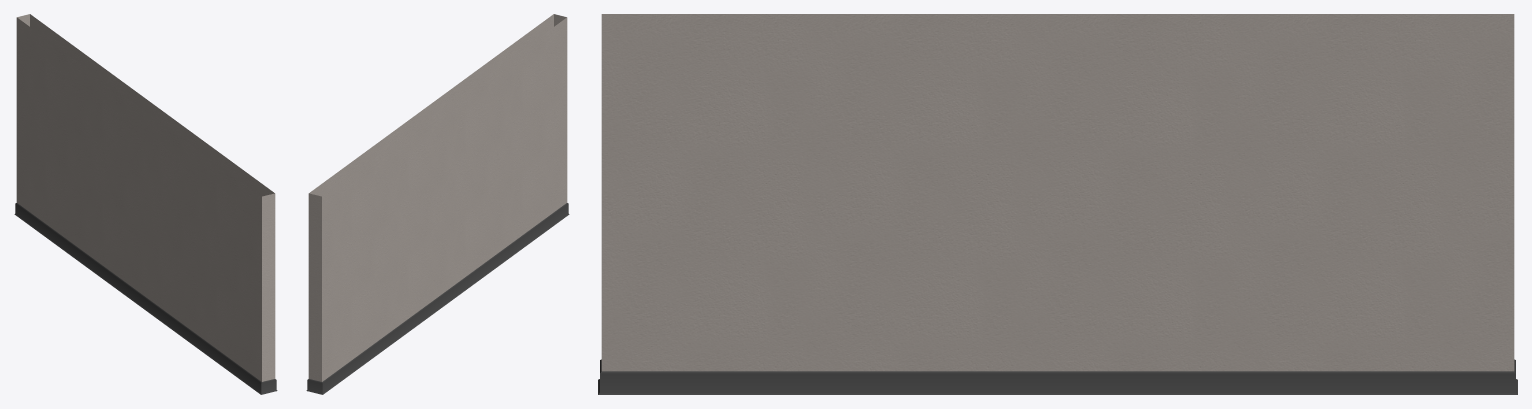
File: Wall.glb
3 renders of one model, left to right at view 1: azimuth 30°, elevation 25°; view 2: azimuth 150°, elevation 25°; view 3: azimuth 270°, elevation 25°, orthographic. The views are drawn at different scales.
Visible parts, largest first — view 1: Wall; view 2: Wall; view 3: Wall.
Part boxes in pixels (x1,y1,x2,y2): Wall: (14,14,277,394); Wall: (306,14,569,394); Wall: (598,14,1517,394).
Size of what is drawn, in the model's own units: 0.3089 by 3.49 by 7.91.
Materials: 2 (1 with a texture image).
